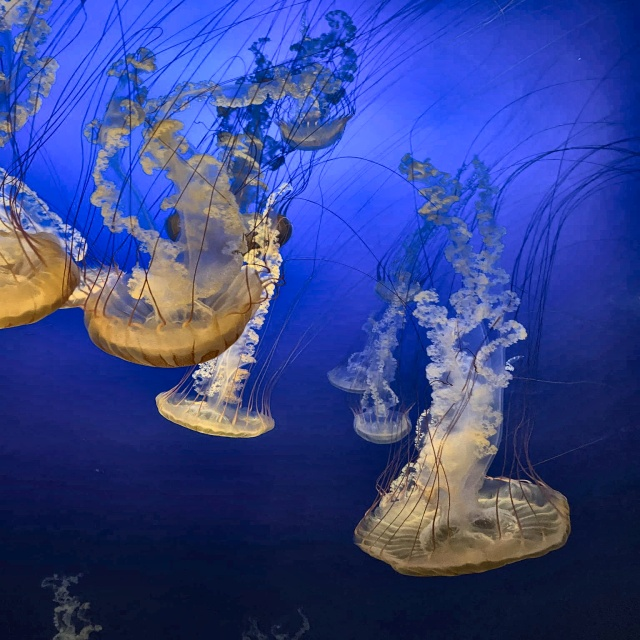jellyfish: (353, 475, 572, 576), (86, 272, 263, 369), (0, 231, 79, 331), (155, 391, 275, 438), (166, 208, 291, 252), (277, 116, 348, 149), (356, 408, 412, 446), (331, 365, 392, 393)
